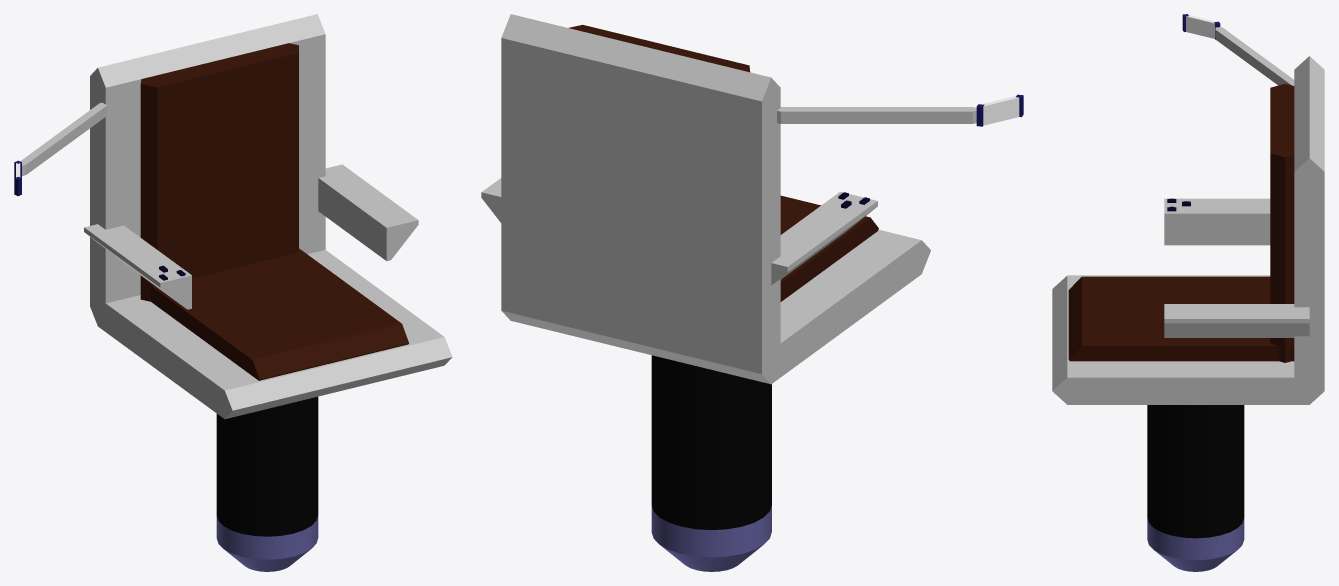
The model's file is PiloteChair.fbx.
3 views of the same model, side by side, from view 1: azimuth 30°, elevation 25°; view 2: azimuth 150°, elevation 25°; view 3: azimuth 270°, elevation 25° (orthographic). The views are drawn at different scales.
Parts seen in each view (by area): view 1: mergedBlocks; view 2: mergedBlocks; view 3: mergedBlocks.
Part boxes in pixels (x1,y1,x2,y2): mergedBlocks: (14, 14, 452, 571); mergedBlocks: (481, 14, 1023, 571); mergedBlocks: (1052, 14, 1324, 571).
Size of the model in its own units: 17.83 by 20.73 by 11.25.
